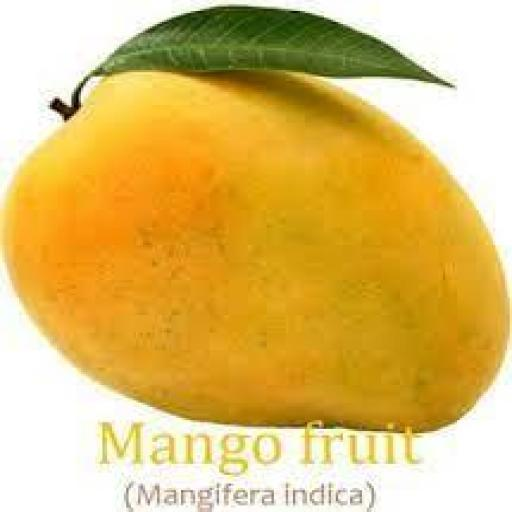mango: (3, 73, 509, 431)
